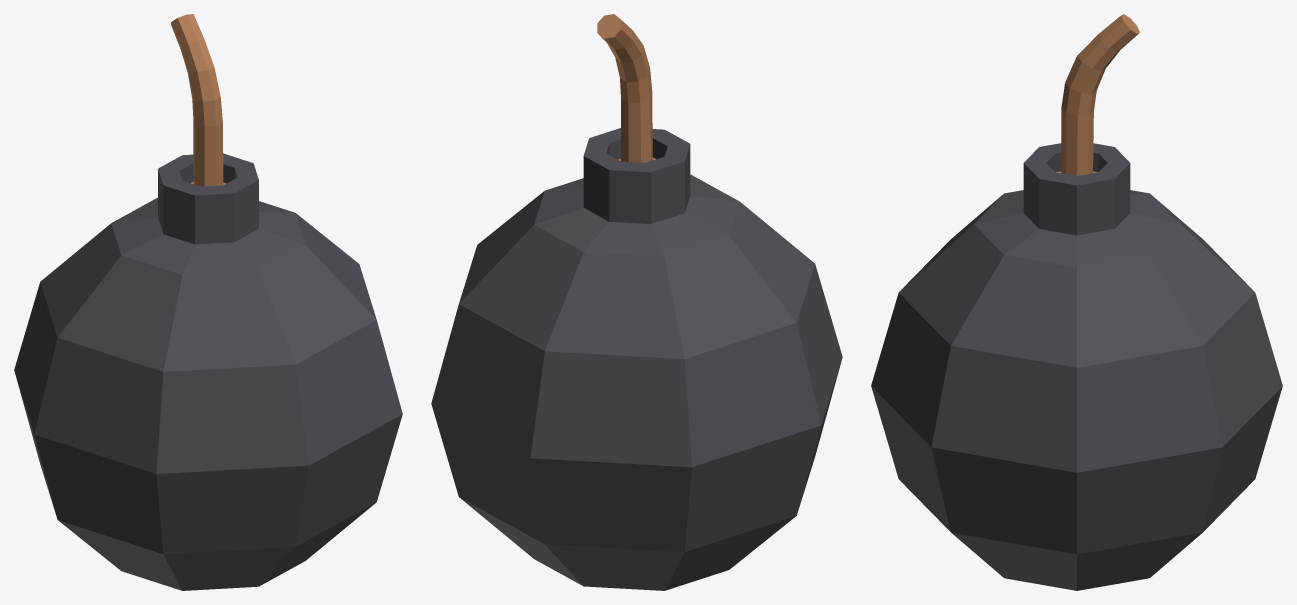
File: bomba.glb
3 views of the same model, side by side, from view 1: azimuth 30°, elevation 25°; view 2: azimuth 150°, elevation 25°; view 3: azimuth 270°, elevation 25° (orthographic). The views are drawn at different scales.
Visible parts, largest first — view 1: Sphere; view 2: Sphere; view 3: Sphere.
Part boxes in pixels (<box>): Sphere: <box>14,14,402,590</box>; Sphere: <box>431,14,842,590</box>; Sphere: <box>871,14,1282,590</box>.
Bounding box in the file's own units: 2 × 2.98 × 2.
